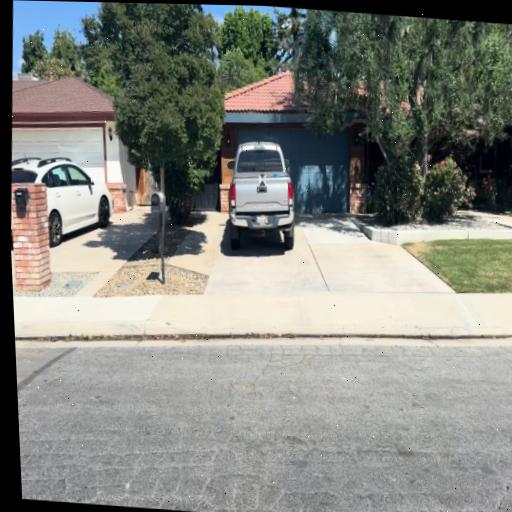target1: (258, 174, 267, 186)
